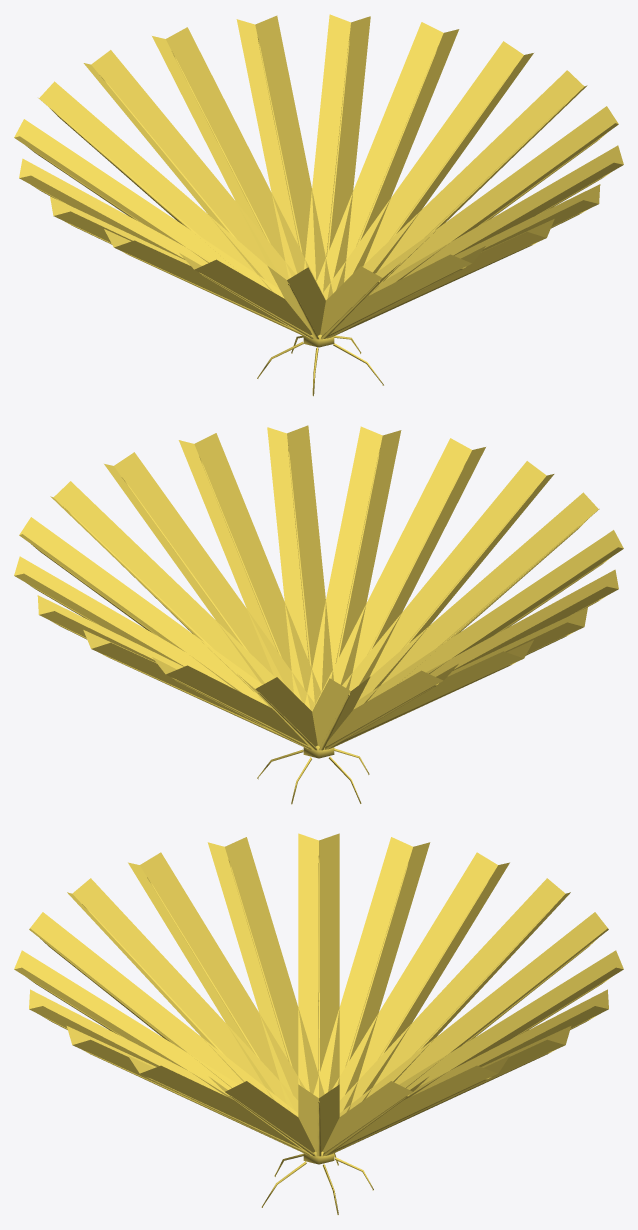
File: crinoid_feather_star_twenty_lo.glb
3 renders of one model, top to bottom at view 1: azimuth 30°, elevation 25°; view 2: azimuth 150°, elevation 25°; view 3: azimuth 270°, elevation 25°, orthographic.
Parts seen in each view (by area): view 1: crinoid_feather_star_twenty_lo; view 2: crinoid_feather_star_twenty_lo; view 3: crinoid_feather_star_twenty_lo.
Part boxes in pixels (x1=…): crinoid_feather_star_twenty_lo: x1=14, y1=14, x2=623, y2=396; crinoid_feather_star_twenty_lo: x1=14, y1=425, x2=623, y2=804; crinoid_feather_star_twenty_lo: x1=14, y1=833, x2=623, y2=1214.
Bounding box in the file's own units: 0.2553 × 0.1072 × 0.2553.
